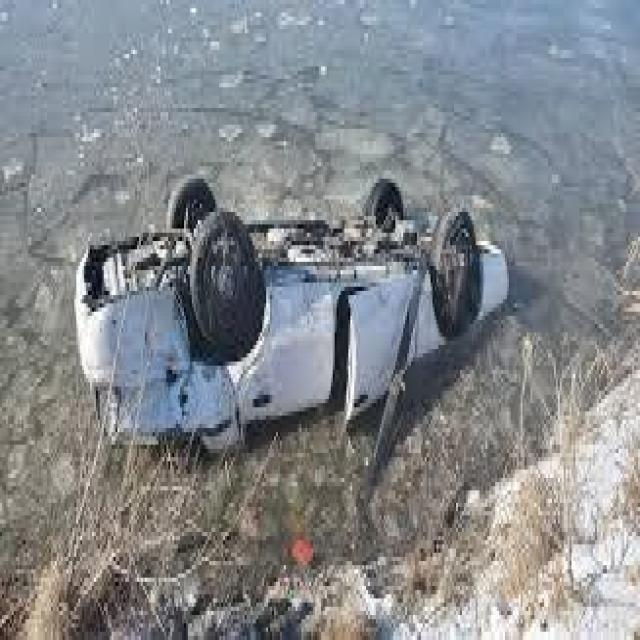severe: (74, 164, 509, 472)
